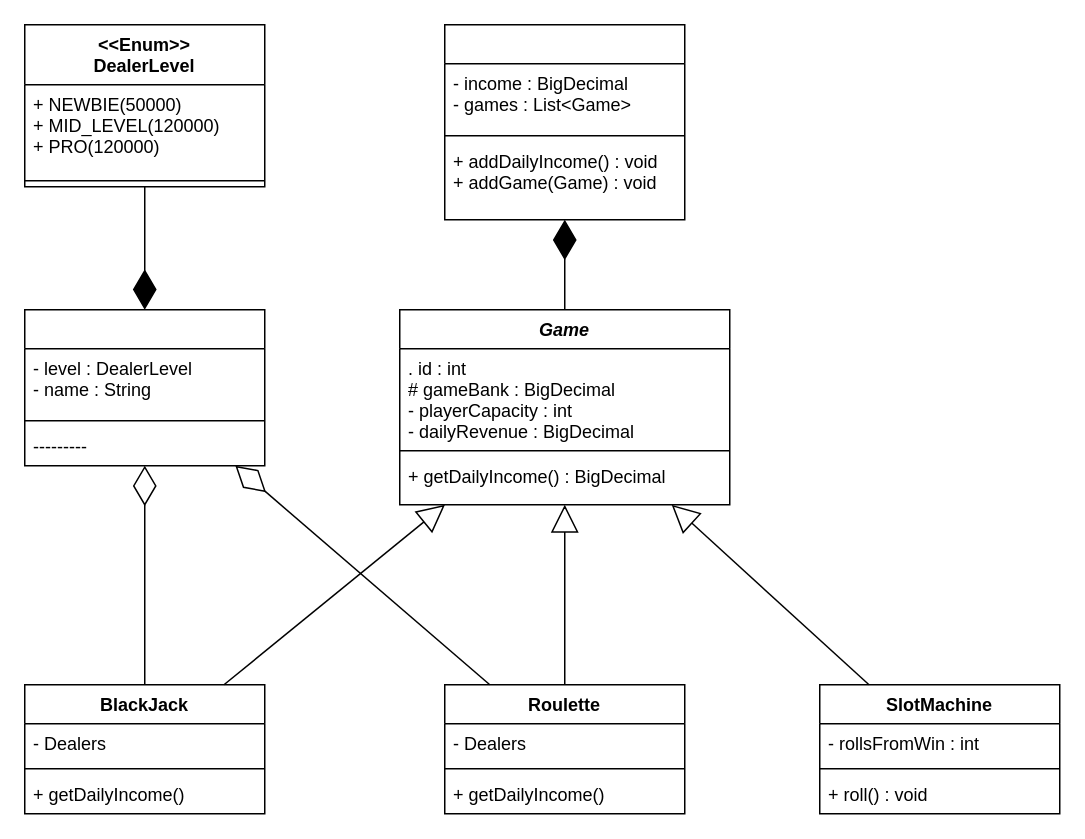
This 1085x839 diagram has some shape labels left out. The box of each missing label's shape, as (x1, y1, x2, y2) in pixels:
Casino: (443, 23, 685, 220)
Dealers: (23, 308, 265, 466)
